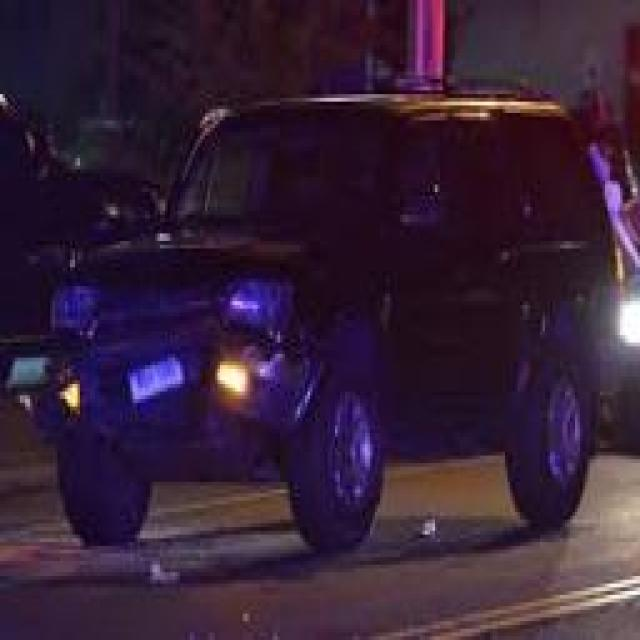replaceable: (41, 341, 300, 452)
